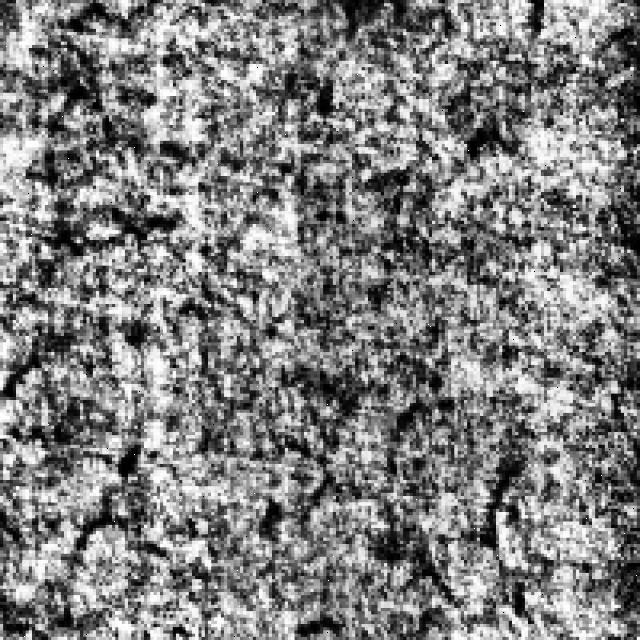Pitted_Surface: (387, 384, 547, 630), (41, 76, 186, 260), (58, 428, 188, 618)
